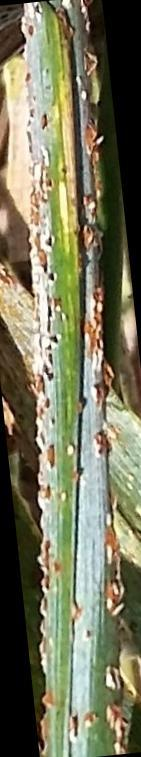Wheat: (21, 7, 109, 419), (43, 428, 112, 746)
